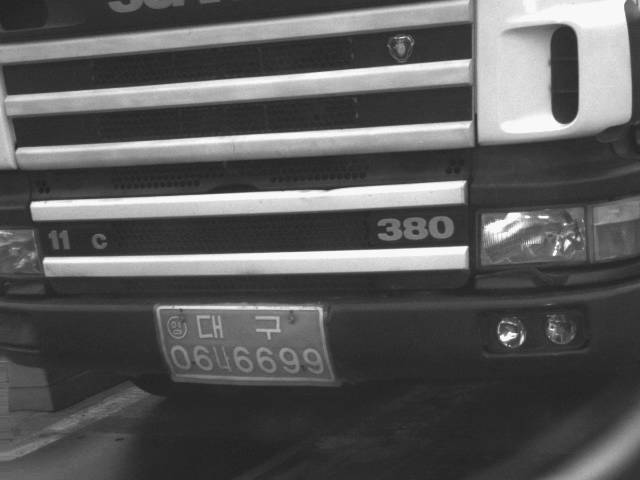car: (1, 1, 639, 394)
plate: (153, 304, 340, 386)
